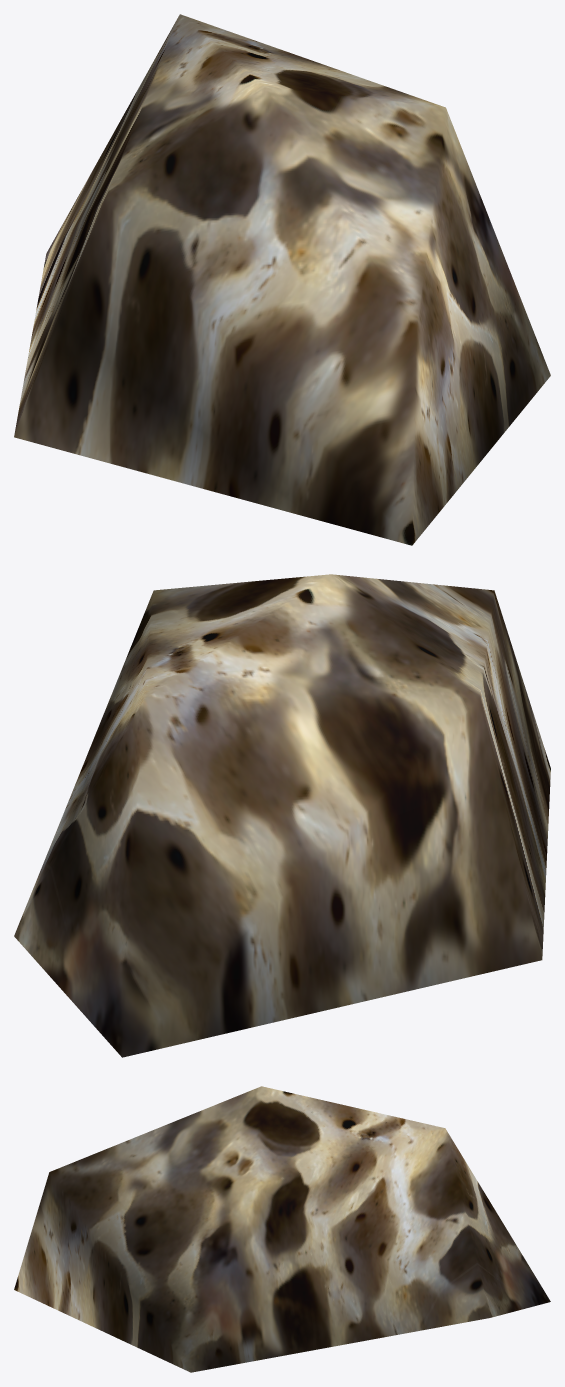
File: CoralStone-01_LOD2.fbx
3 views of the same model, one above another, from view 1: azimuth 30°, elevation 25°; view 2: azimuth 150°, elevation 25°; view 3: azimuth 270°, elevation 25° (orthographic). The views are drawn at different scales.
Parts seen in each view (by area): view 1: CoralStone-01_low; view 2: CoralStone-01_low; view 3: CoralStone-01_low.
Part boxes in pixels (left/top/right/bottom): CoralStone-01_low: left=14, top=14, right=550, bottom=545; CoralStone-01_low: left=14, top=574, right=550, bottom=1057; CoralStone-01_low: left=14, top=1086, right=550, bottom=1372.
Size of the model in its own units: 0.1315 by 0.102 by 0.1938.
